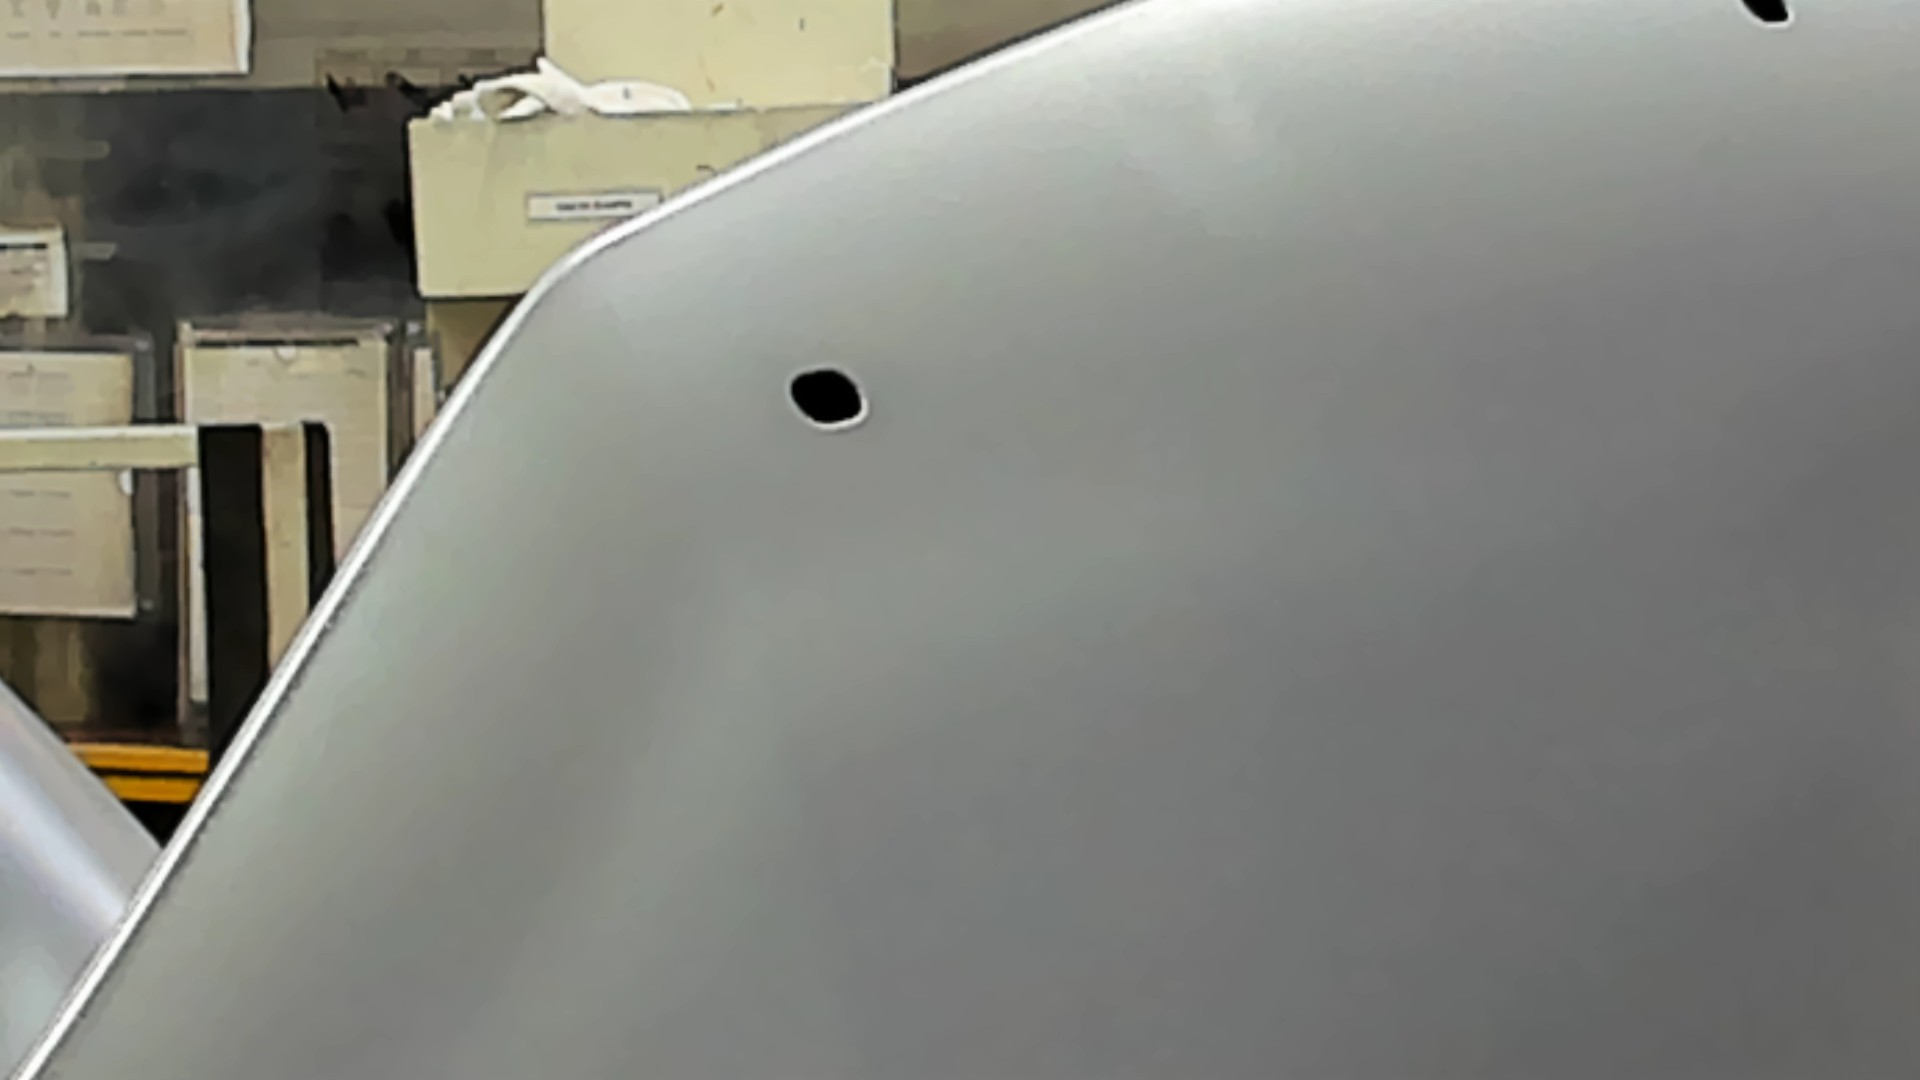amorfo: (787, 363, 869, 435), (1731, 1, 1807, 32)
